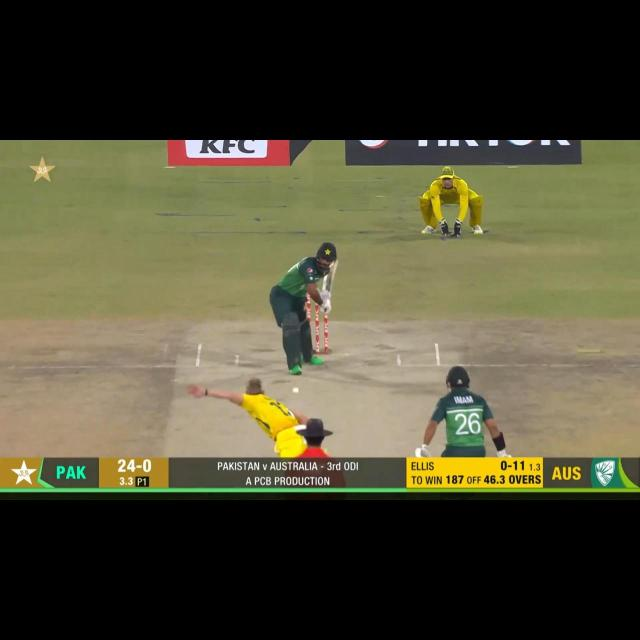bat: (320, 256, 338, 300)
toe: (328, 260, 341, 270)
